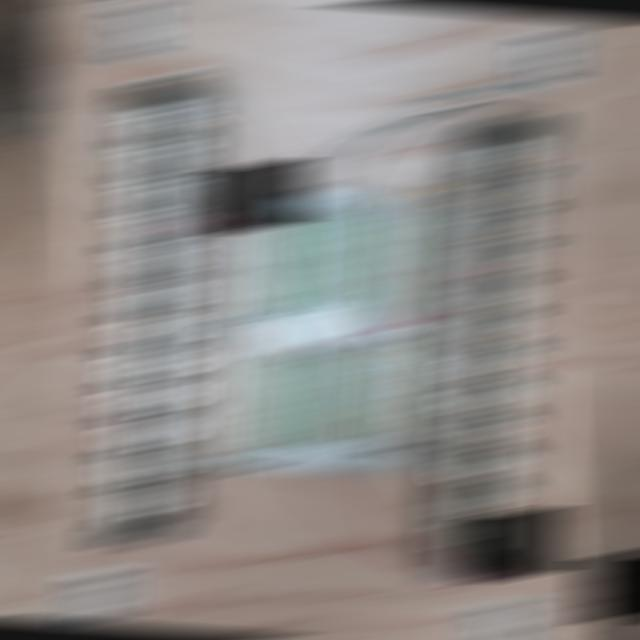Flathead_Block: (438, 115, 554, 580)
Phillips_Block: (92, 81, 203, 546)
Terminal_1: (361, 341, 413, 438), (371, 218, 418, 313)
Terminal_2: (256, 216, 303, 306), (313, 218, 360, 308), (303, 358, 350, 447), (276, 358, 323, 447), (285, 216, 331, 306)
